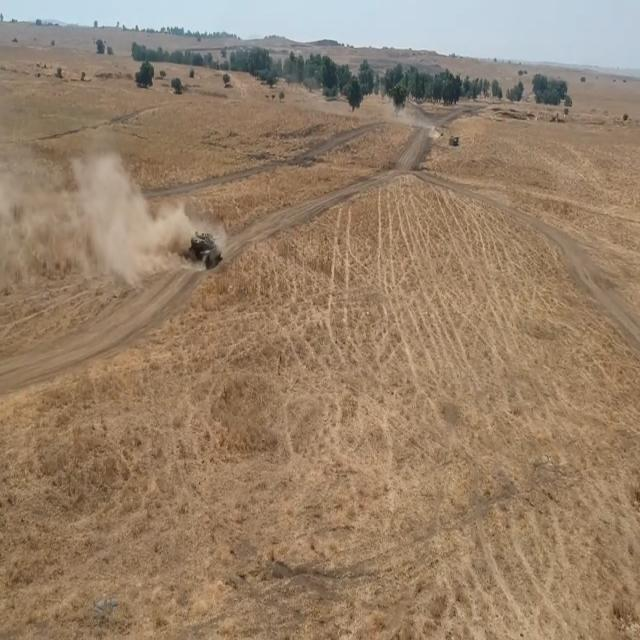tank: (190, 221, 223, 269)
